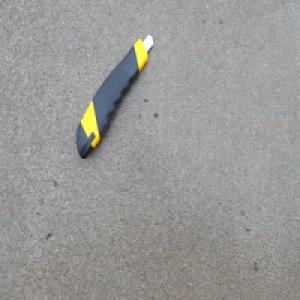Cutter: (76, 32, 154, 160)
